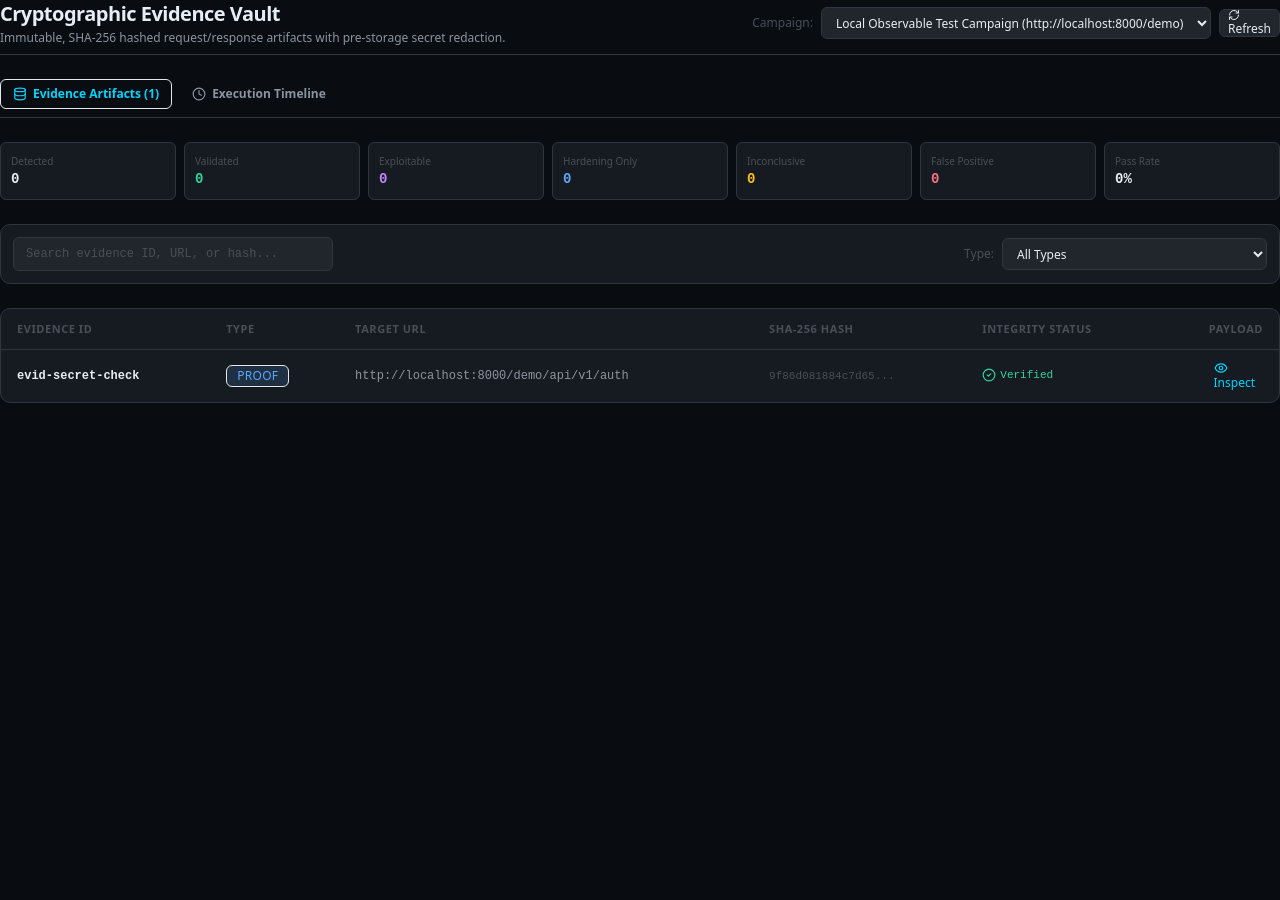
it: Evidence Visibility & Execution Transparency Gate (Frontend) › verifies secret redaction in response preview with token masking
The width and height of the screenshot is (1280, 900).
Expected: the text "evid-secret-check" is shown, x1=1 y1=350 x2=210 y2=402
Click the button with aria-label "view" at (1234, 376), box x1=1206 y1=362 x2=1263 y2=390
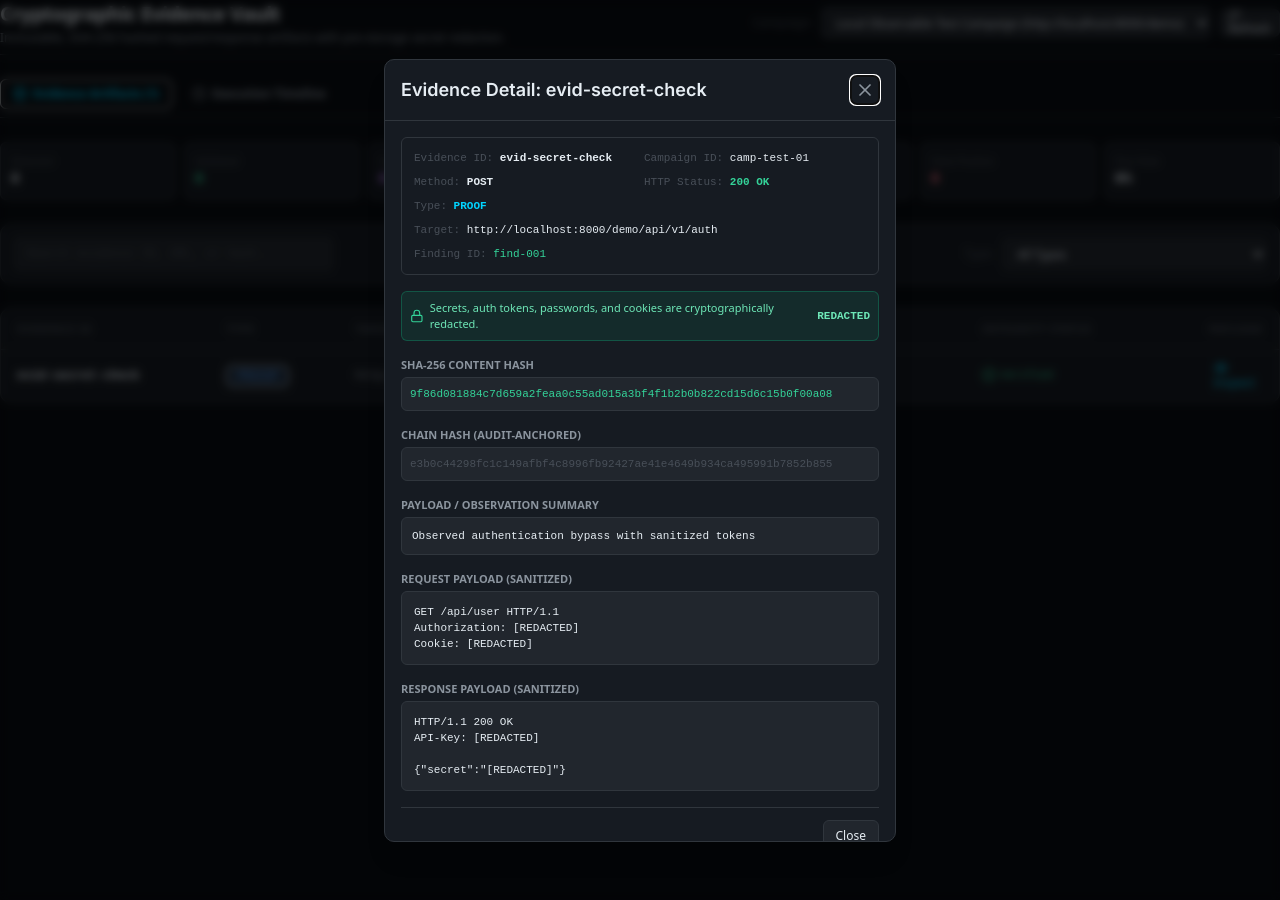
Result: the text "Cookie: [REDACTED]" is shown at x1=414 y1=606 x2=579 y2=650
Result: the text "HTTP/1.1 200 OK API-Key: [REDACTED] {\"secret\":\"[REDACTED]\"}" is shown at x1=401 y1=700 x2=879 y2=790
